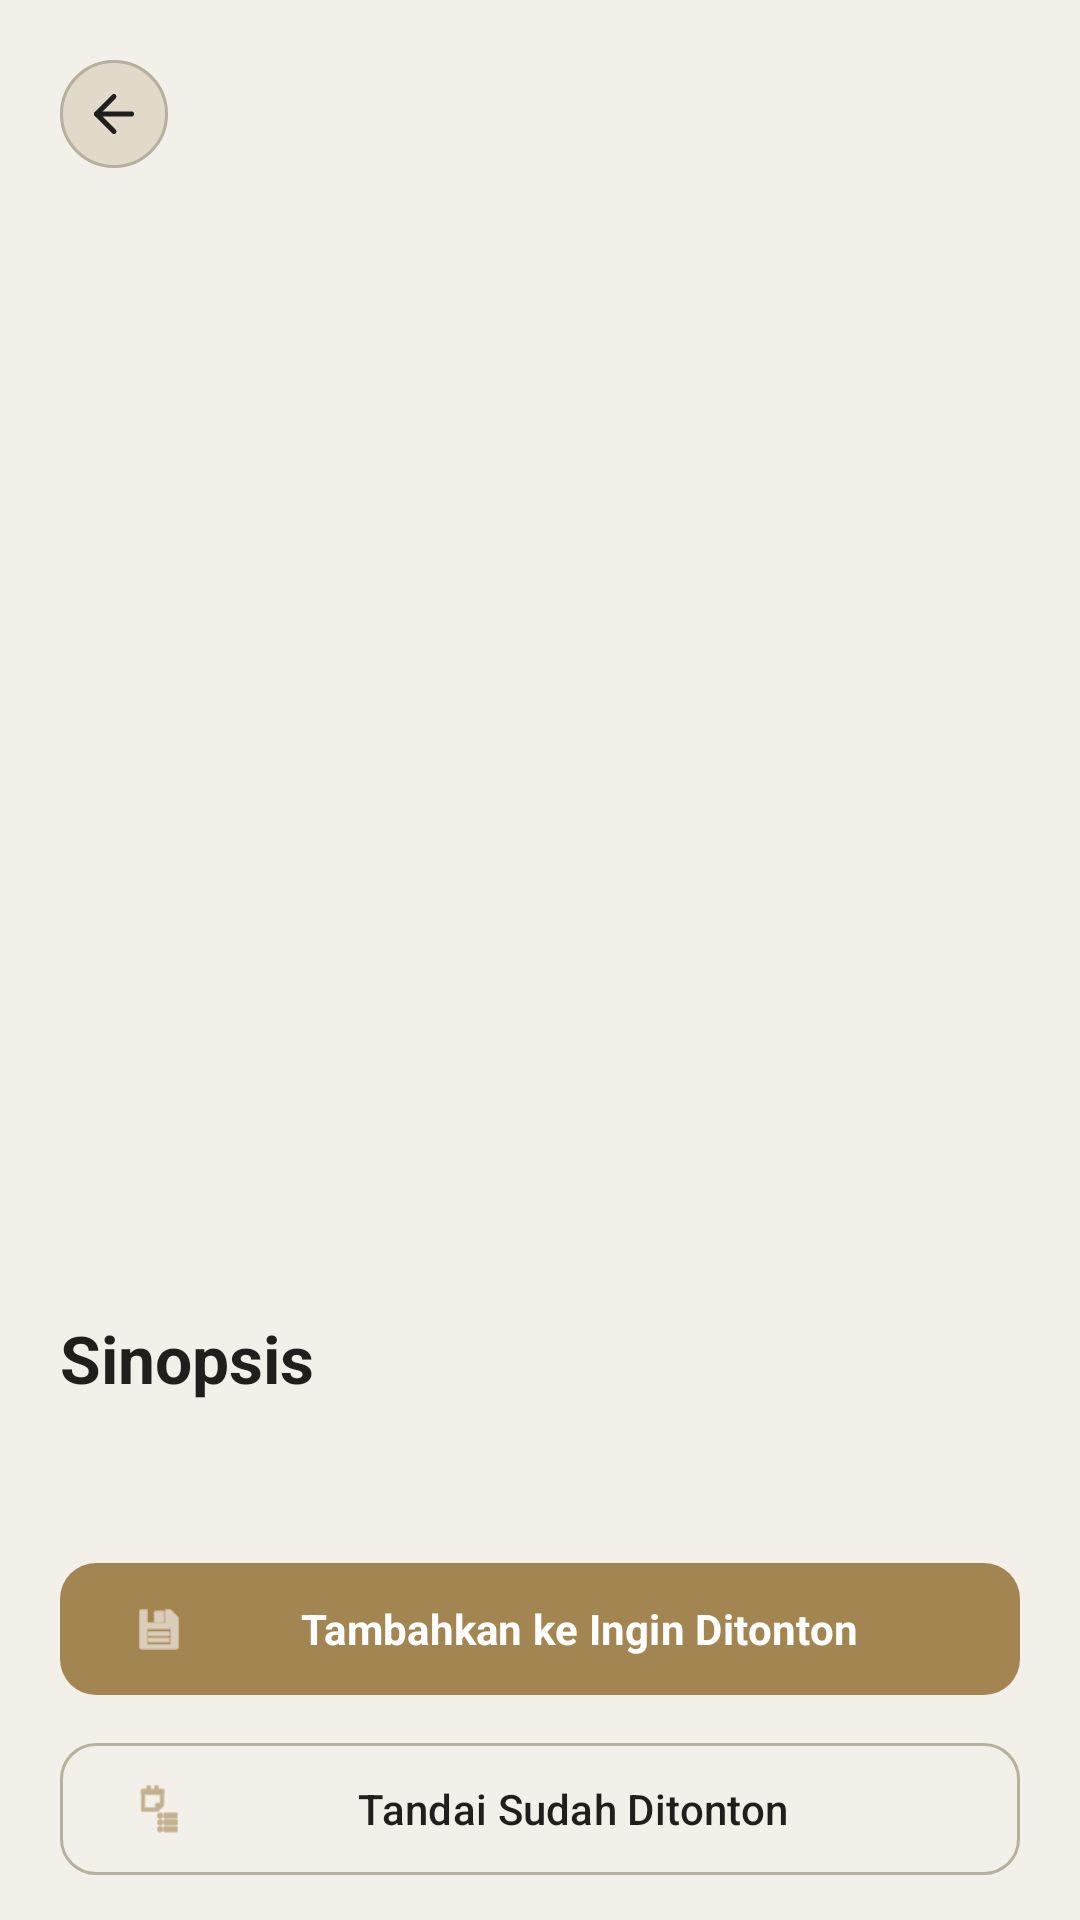

Where icons sit on this 1080*1920 app screen, as (x1, y1, x2, y2):
Kembali: (60, 60, 168, 168)
